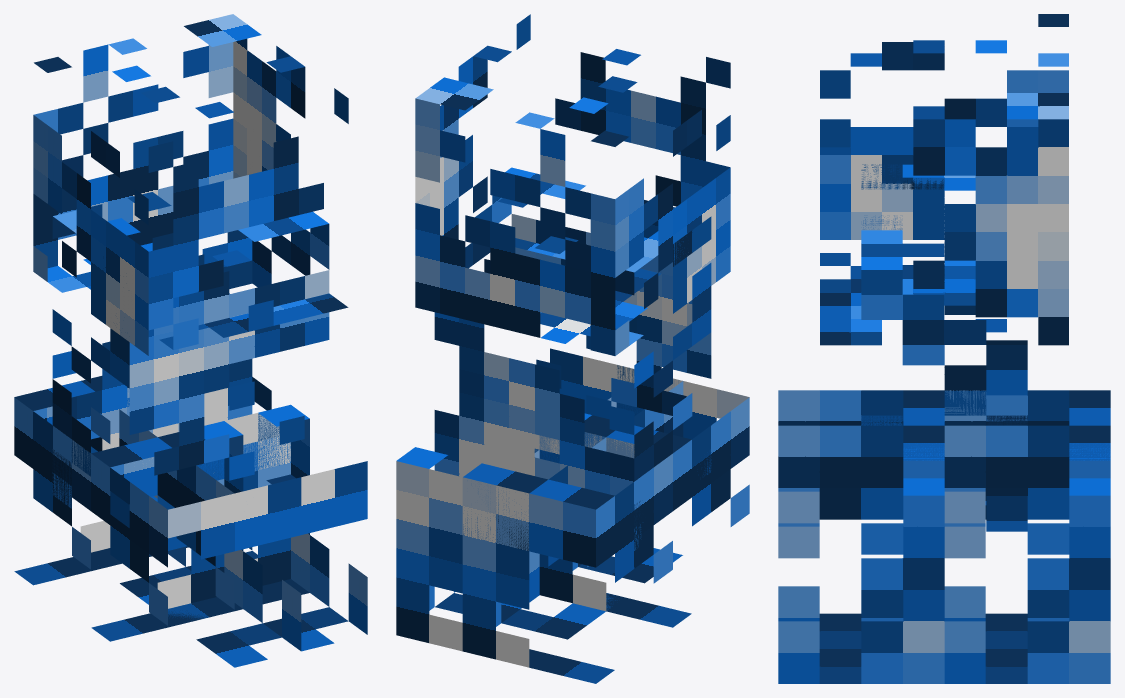
File: creeper_charge.gltf
3 views of the same model, side by side, from view 1: azimuth 30°, elevation 25°; view 2: azimuth 150°, elevation 25°; view 3: azimuth 270°, elevation 25° (orthographic). The views are drawn at different scales.
Parts seen in each view (by area): view 1: head, body, leg2, leg1, leg4, leg3; view 2: head, body, leg4, leg3, leg2, leg1; view 3: head, leg1, leg3, body, leg2, leg4.
Part boxes in pixels (x1,y1,x2,y2): head: (33,14,348,355); body: (52,192,329,527); leg2: (91,421,301,667); leg1: (157,404,367,651); leg4: (14,381,191,604); leg3: (81,376,290,570); head: (415,14,730,355); body: (434,167,711,550); leg4: (462,439,672,683); leg3: (396,433,606,651); leg2: (539,365,749,627); leg1: (534,348,683,610); head: (820,14,1068,345); leg1: (778,425,944,683); leg3: (944,425,1110,683); body: (861,164,1027,531); leg2: (778,390,944,648); leg4: (944,390,1110,648).
Bounding box in the file's own units: 0.75 × 1.88 × 1.
1 material, 1 textured.
